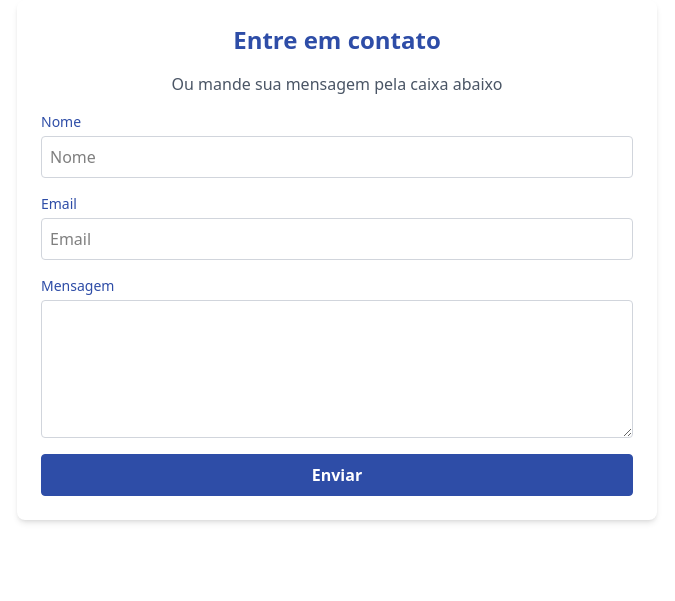
it: Contato › bloqueia o envio e aponta cada campo obrigatório
The width and height of the screenshot is (675, 601).
Click the button "Enviar" at (337, 475), box [41,454,633,496]
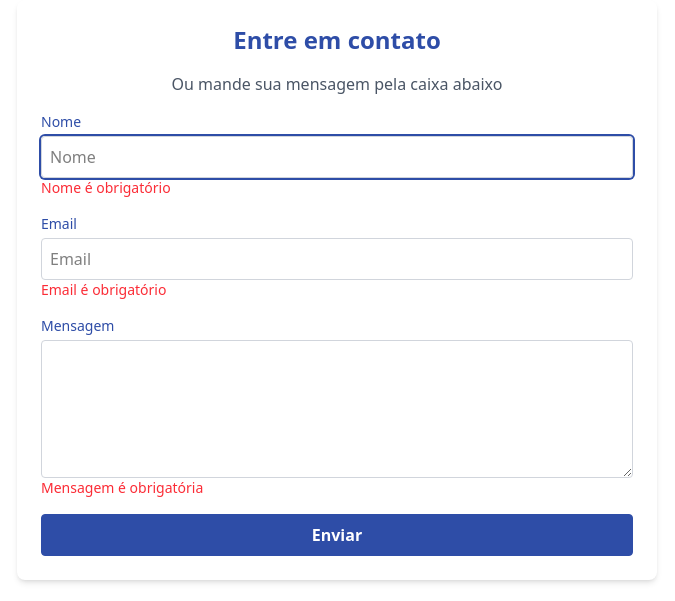
Expected: the text "Nome é obrigatório" is shown, [41,178,171,197]
Expected: the text "Email é obrigatório" is shown, [41,280,166,299]
Expected: the text "Mensagem é obrigatória" is shown, [41,478,203,497]
